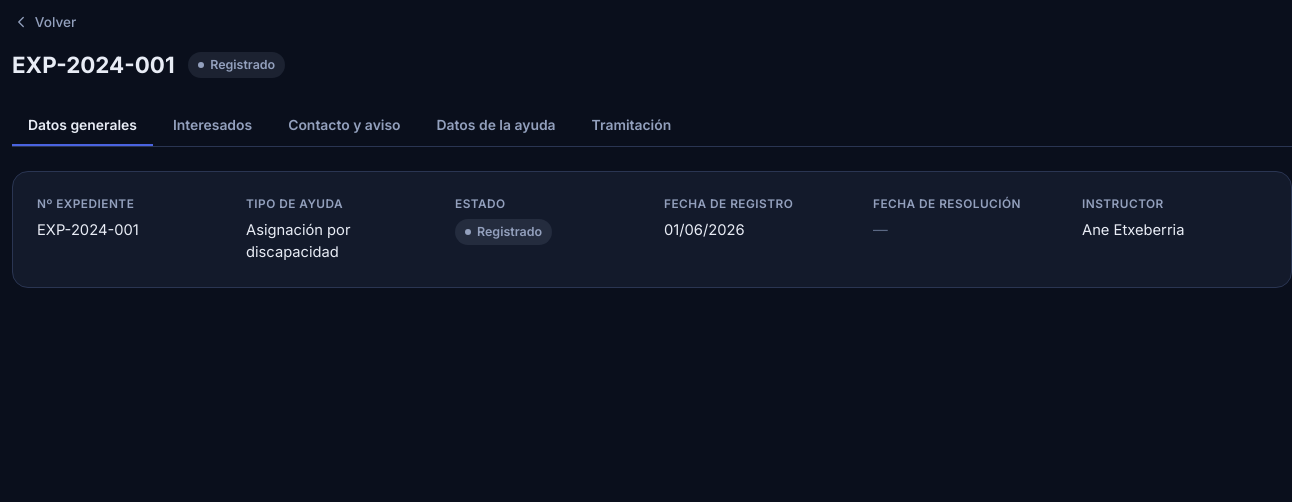
Scenario: ExpedienteDetalle › al cambiar de pestaña, carga la sección correspondiente solo la primera vez
expect the heading "EXP-2024-001" is shown: met, box [12,48,175,82]
Click the tab "Interesados": (213, 126) [157,106,268,146]
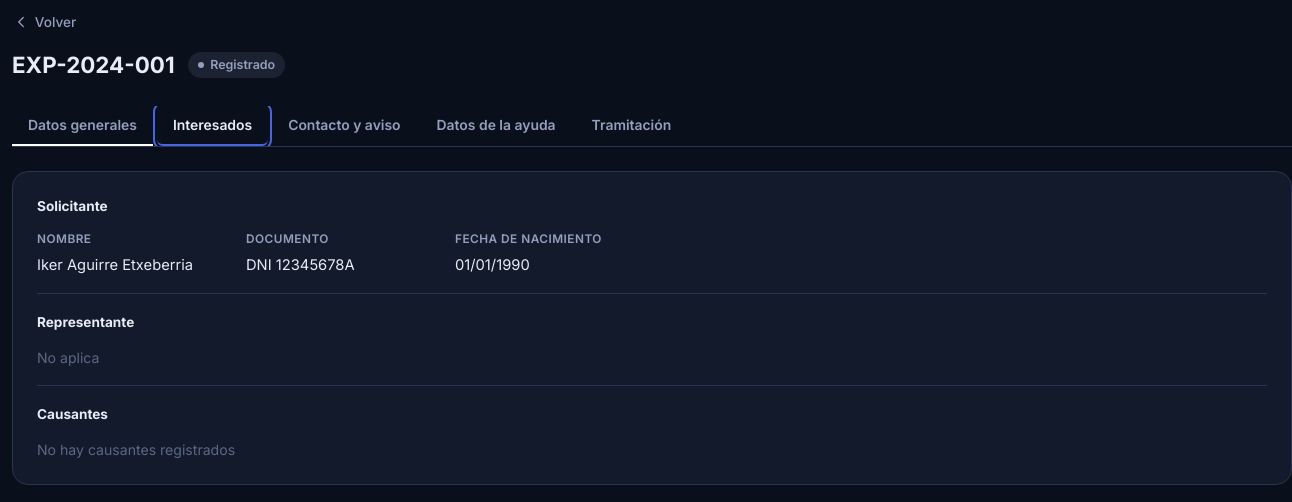
expect the text "Iker Aguirre Etxeberria" is shown: met, box [37,256,193,274]
